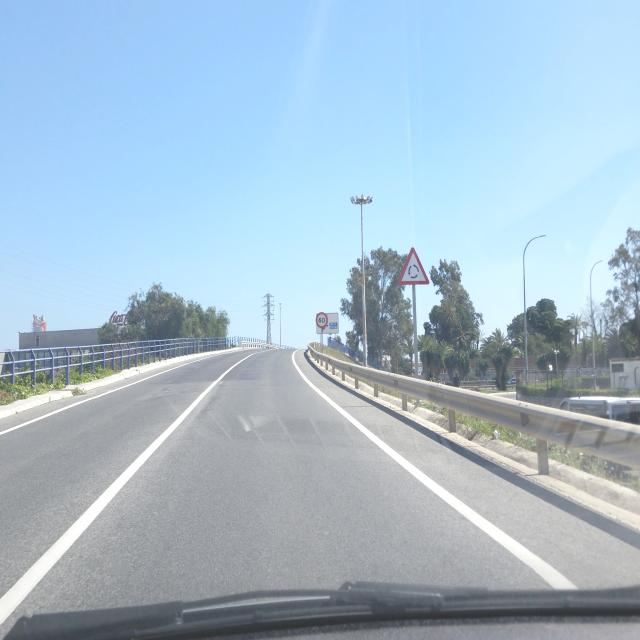car: (264, 342, 274, 351)
